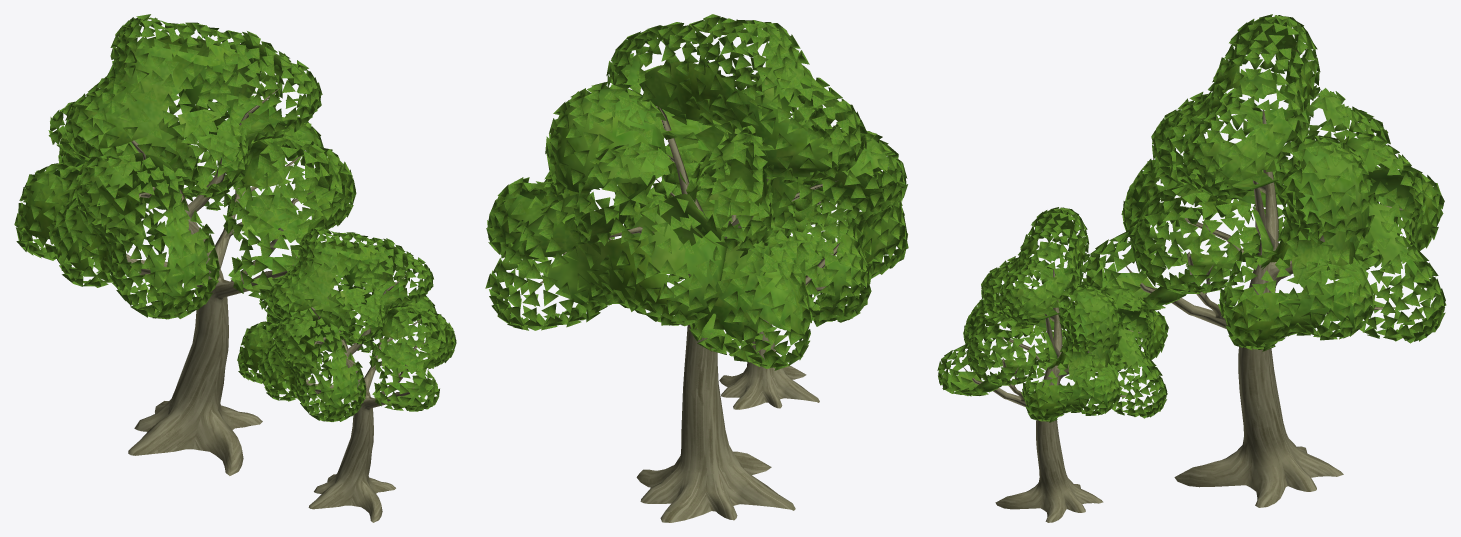
Rendered from SM_ENV_LKNVLD_TreeSet_P.FBX.
3 views of the same model, side by side, from view 1: azimuth 30°, elevation 25°; view 2: azimuth 150°, elevation 25°; view 3: azimuth 270°, elevation 25° (orthographic). The views are drawn at different scales.
Visible parts, largest first — view 1: SM_ENV_LKNVLD_TreeSet_P; view 2: SM_ENV_LKNVLD_TreeSet_P; view 3: SM_ENV_LKNVLD_TreeSet_P.
Part boxes in pixels (bbox=[...]): SM_ENV_LKNVLD_TreeSet_P: bbox=[14, 14, 456, 522]; SM_ENV_LKNVLD_TreeSet_P: bbox=[485, 14, 908, 522]; SM_ENV_LKNVLD_TreeSet_P: bbox=[937, 14, 1446, 522].
Size of the model in its own units: 1372 by 1904 by 1979.
